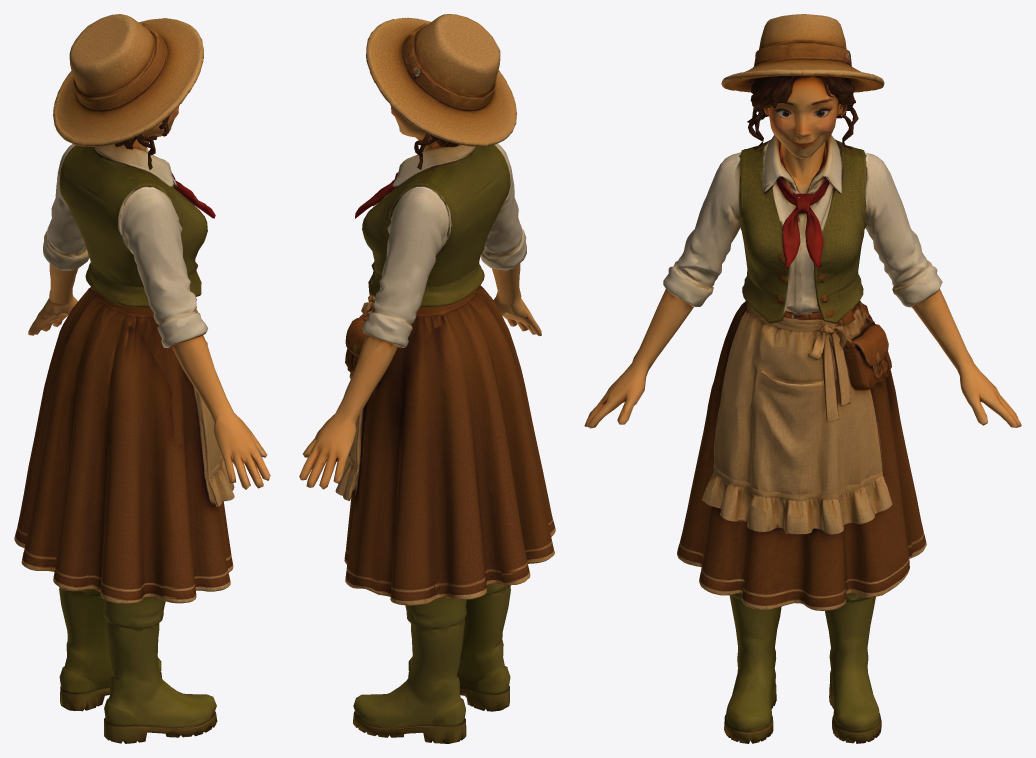
The model's file is ItemNPC.glb.
3 views of the same model, side by side, from view 1: azimuth 30°, elevation 25°; view 2: azimuth 150°, elevation 25°; view 3: azimuth 270°, elevation 25° (orthographic).
Parts seen in each view (by area): view 1: tripo_node_7ece31f9-9a3f-4e1c-be48-a48bc774515a; view 2: tripo_node_7ece31f9-9a3f-4e1c-be48-a48bc774515a; view 3: tripo_node_7ece31f9-9a3f-4e1c-be48-a48bc774515a.
Part boxes in pixels (box(x1,y1,x2,y2)): tripo_node_7ece31f9-9a3f-4e1c-be48-a48bc774515a: box(14, 14, 270, 743); tripo_node_7ece31f9-9a3f-4e1c-be48-a48bc774515a: box(299, 14, 555, 743); tripo_node_7ece31f9-9a3f-4e1c-be48-a48bc774515a: box(584, 14, 1021, 743).
Bounding box in the file's own units: 0.2699 × 0.979 × 0.5538.
Materials: 1 (1 with a texture image).
